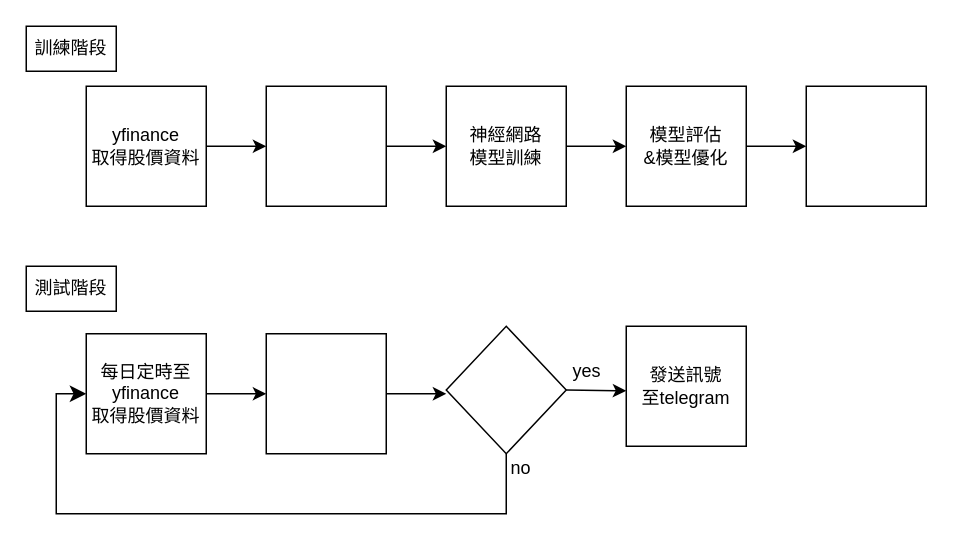
The diagram is 953 pixels wide and 555 high, and some of its shapes have lost their labels. Each missing label, with the box of its shape:
保存模型: (805, 85, 926, 206)
模型推論: (265, 332, 386, 454)
特徵工程& 數據預處理: (265, 85, 386, 206)
訊號判斷: (445, 325, 566, 454)
